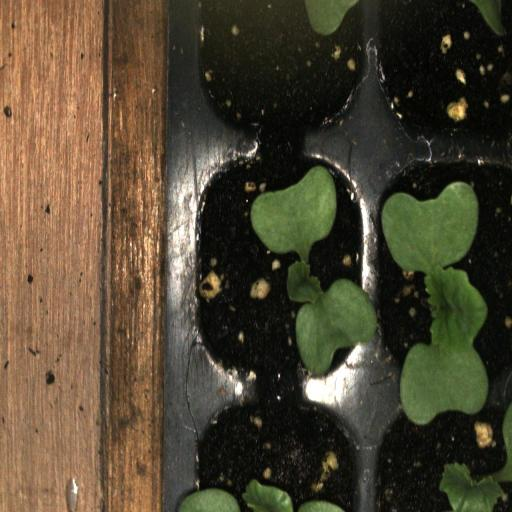seedling: (186, 146, 368, 386), (368, 149, 512, 393)
